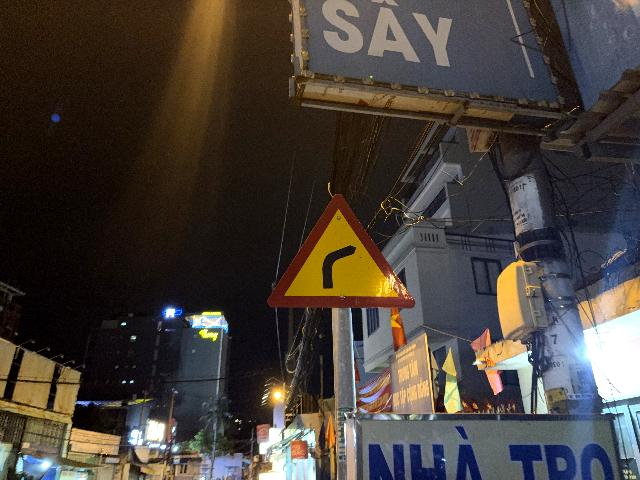cho-ngoat-nguy-hiem-ben-phai: (267, 192, 417, 309)
